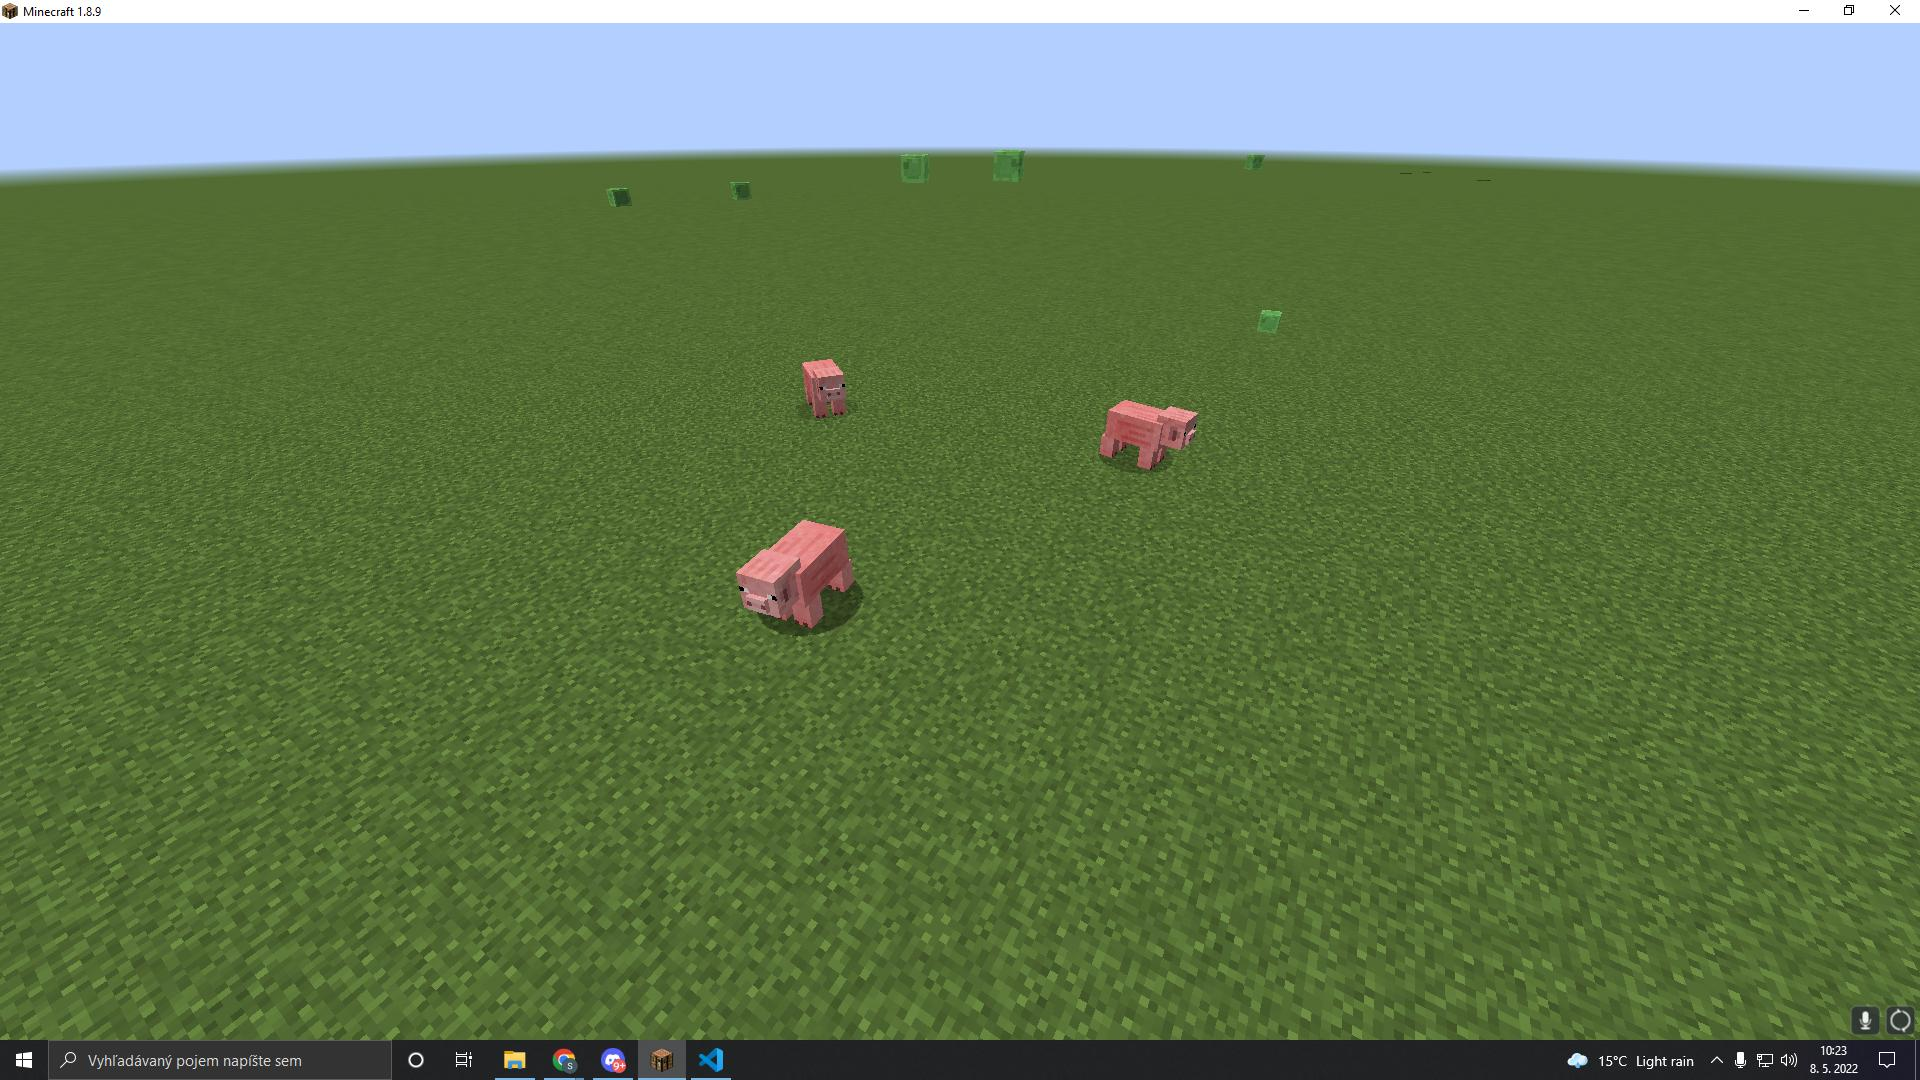pig: (731, 508, 869, 642), (1091, 380, 1211, 487), (791, 353, 862, 427)
